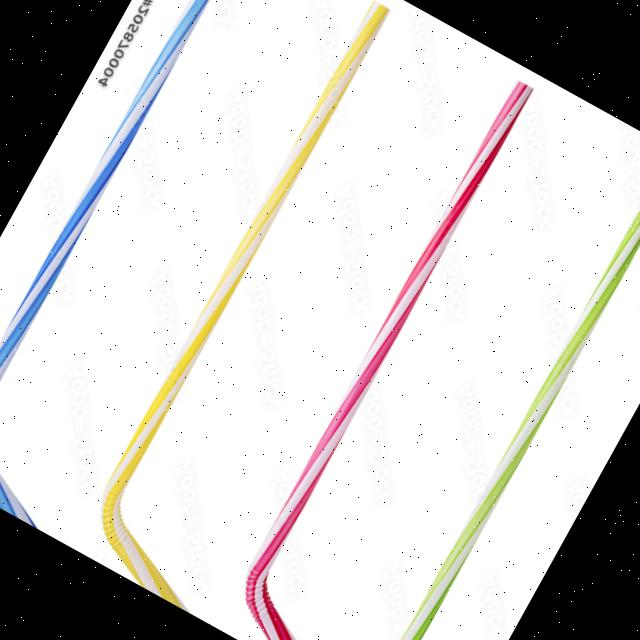plastic: (194, 62, 640, 640)
